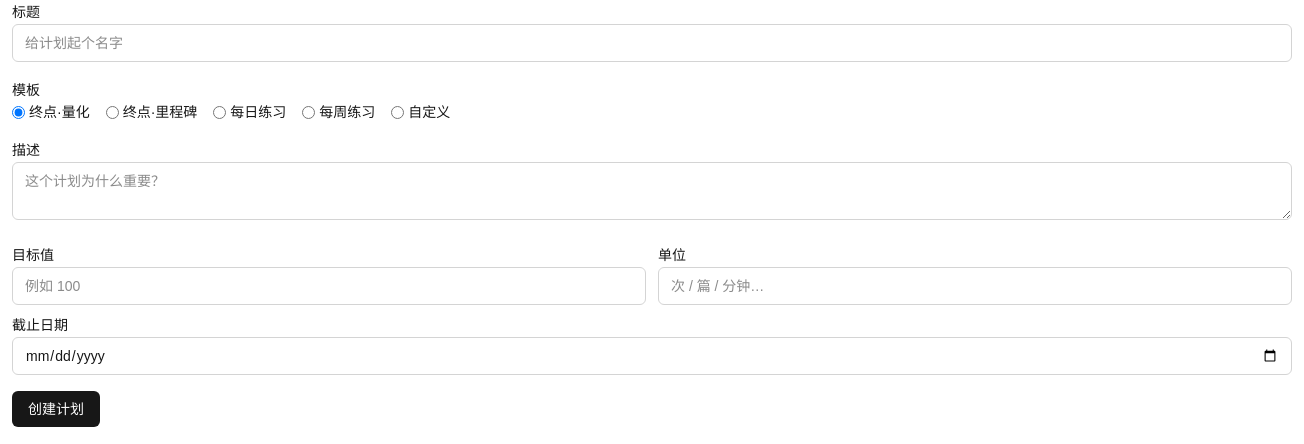
Test case: PlanForm › weekly 模板显示每周次数
What coordinates should you click on to do the following:
click the radio button labelled "每周练习"
I would click on:
 (309, 112)
Its box is [302,106,315,118].
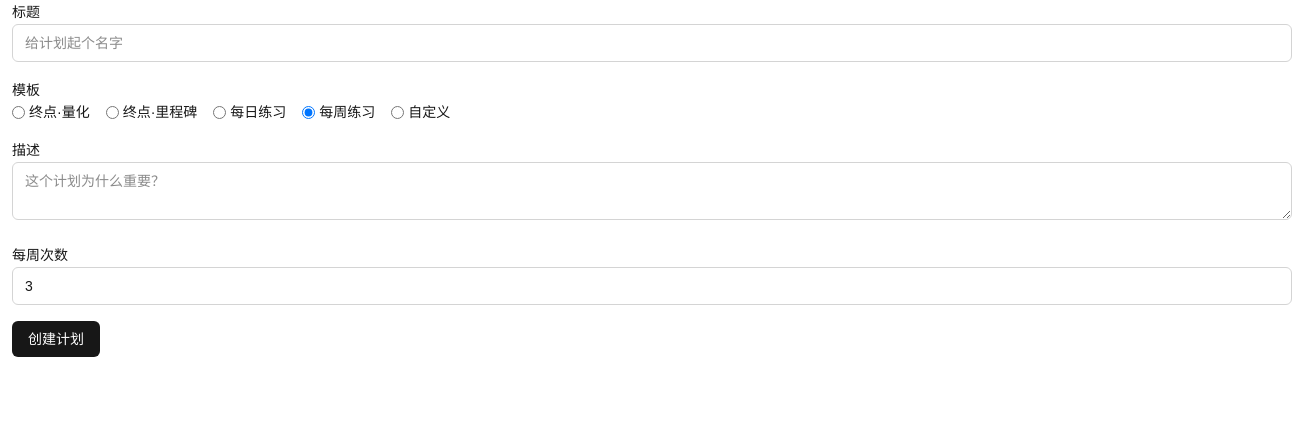
Check: the number field labelled "每周次数" is shown, box [12,267,1292,305]
Check: the label labelled "目标值" is gone
